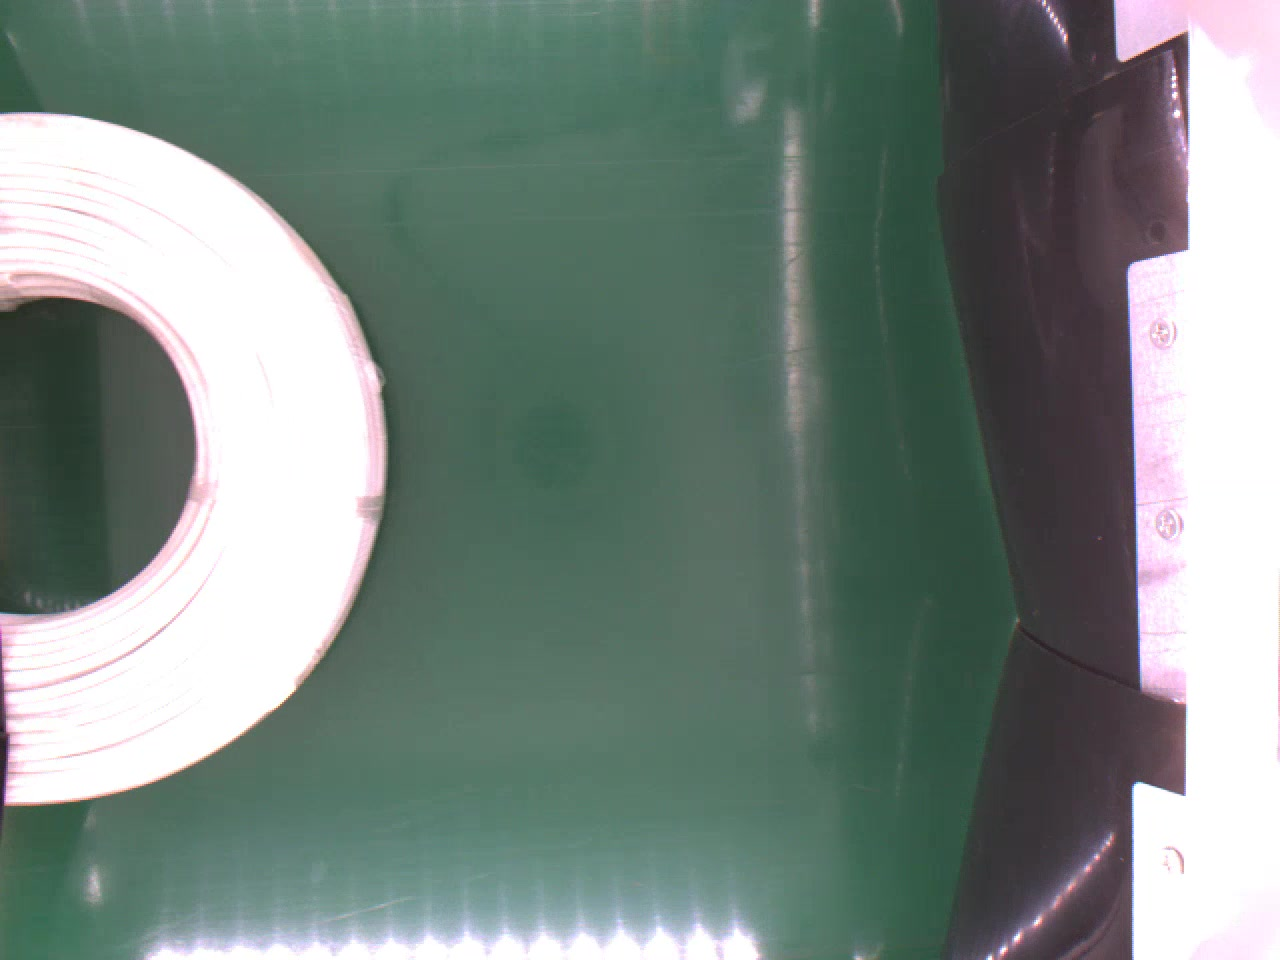white: (0, 106, 393, 808)
